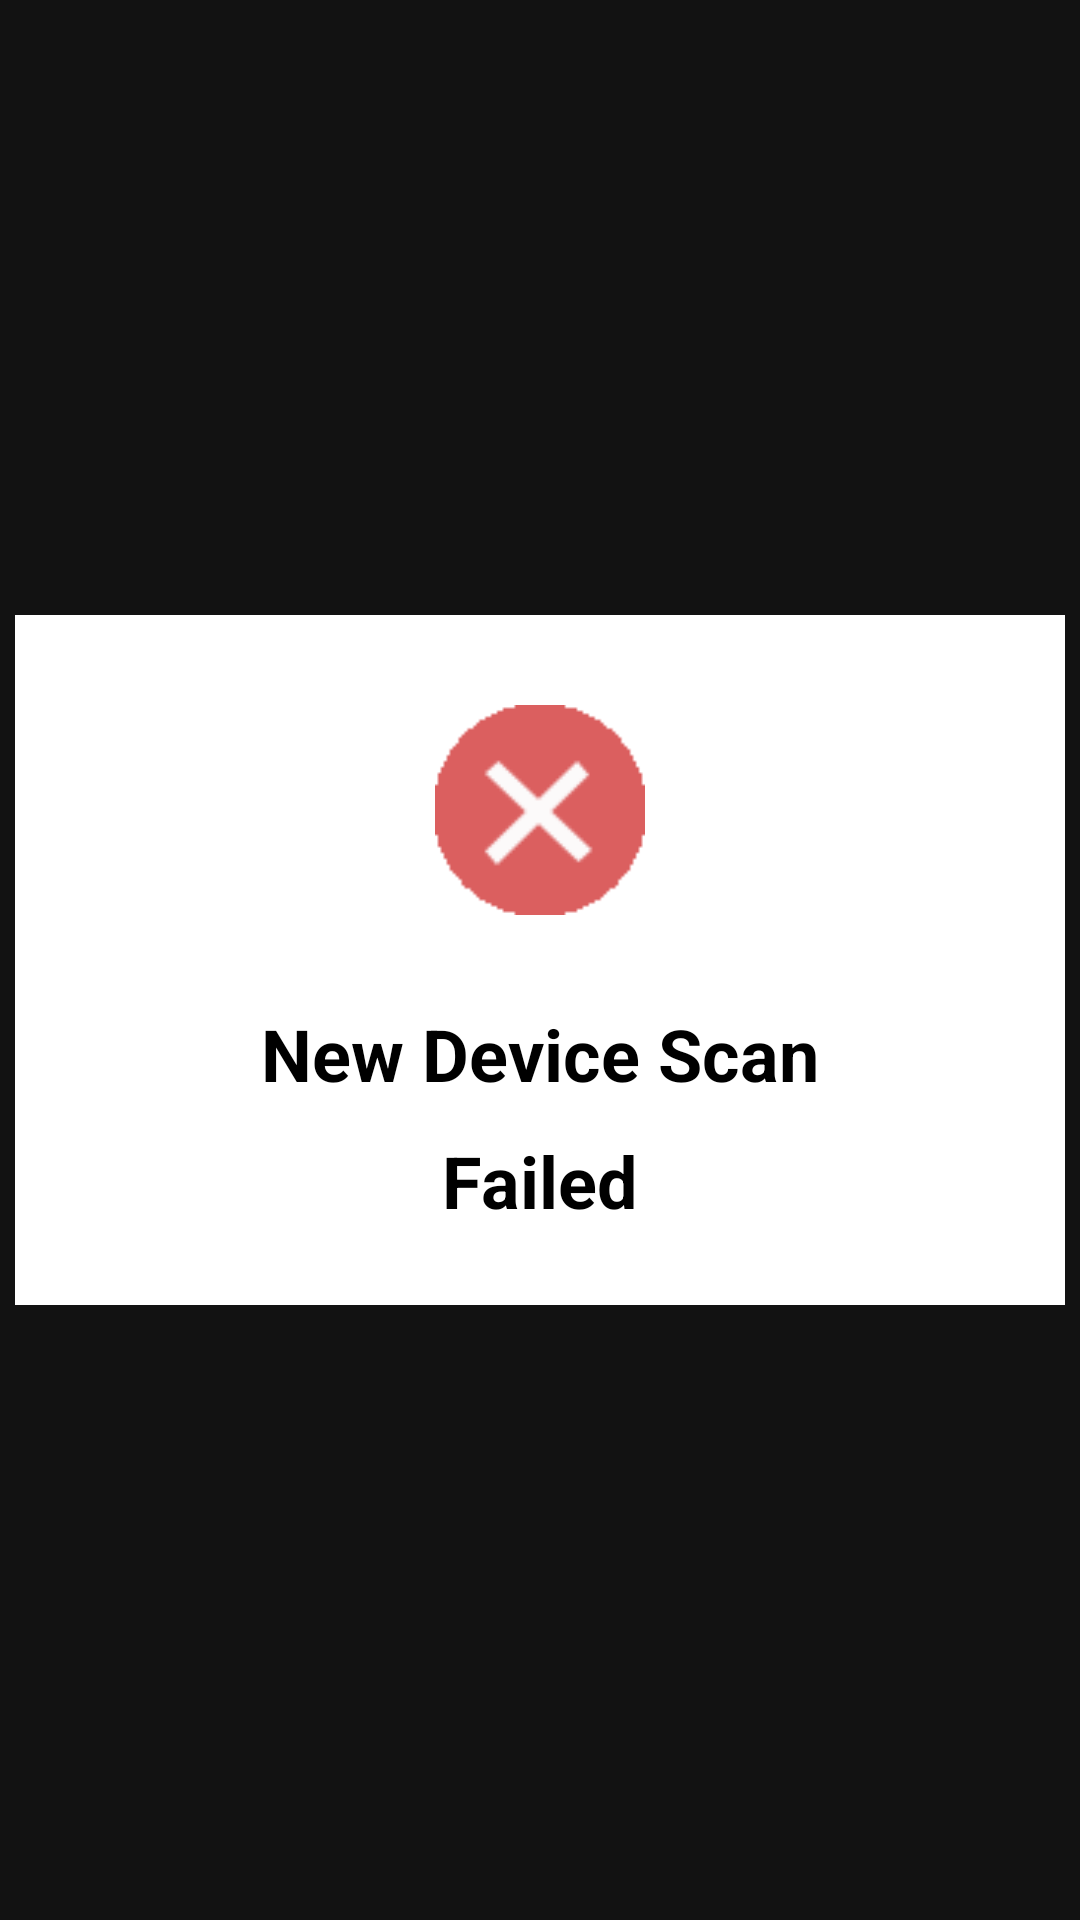

Point at icon controls on the screen. Image size 1080w x 1920h, points as (x,y).
fail: (540,810)
